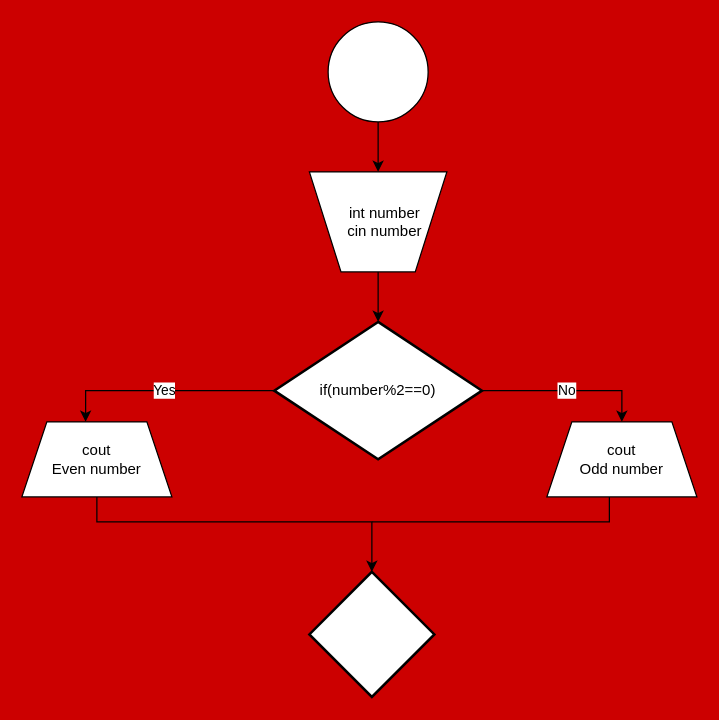
The diagram is 719 pixels wide and 720 high, and some of its shapes have lost their labels. The centre of each missing label's shape, as x and y in pixels:
"Start" goes at (x=377, y=71).
"Stop" goes at (x=371, y=634).
